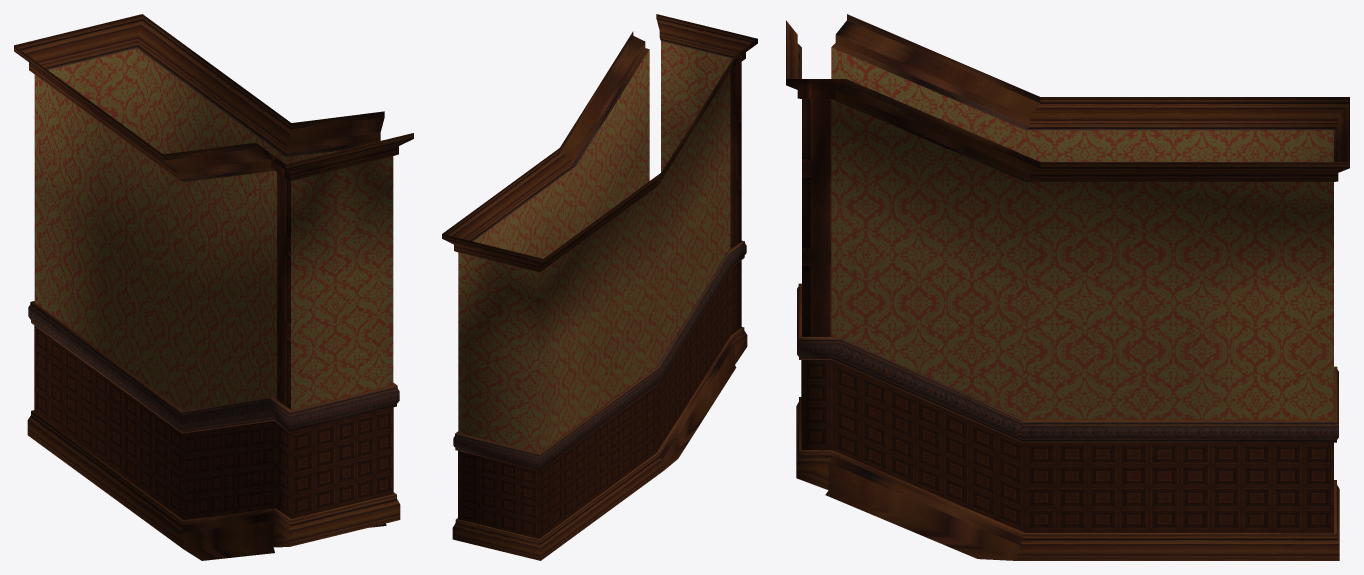
File: Stairwall_Round.fbx
3 renders of one model, left to right at view 1: azimuth 30°, elevation 25°; view 2: azimuth 150°, elevation 25°; view 3: azimuth 270°, elevation 25°, orthographic. The views are drawn at different scales.
Visible parts, largest first — view 1: StairStepupforRound; view 2: StairStepupforRound; view 3: StairStepupforRound.
Boxes of the visible parts, box(x1,y1,x2,y2) form: StairStepupforRound: box(14, 14, 413, 560); StairStepupforRound: box(442, 14, 757, 560); StairStepupforRound: box(786, 14, 1349, 560).
Size of the model in its own units: 97.41 by 339 by 356.
